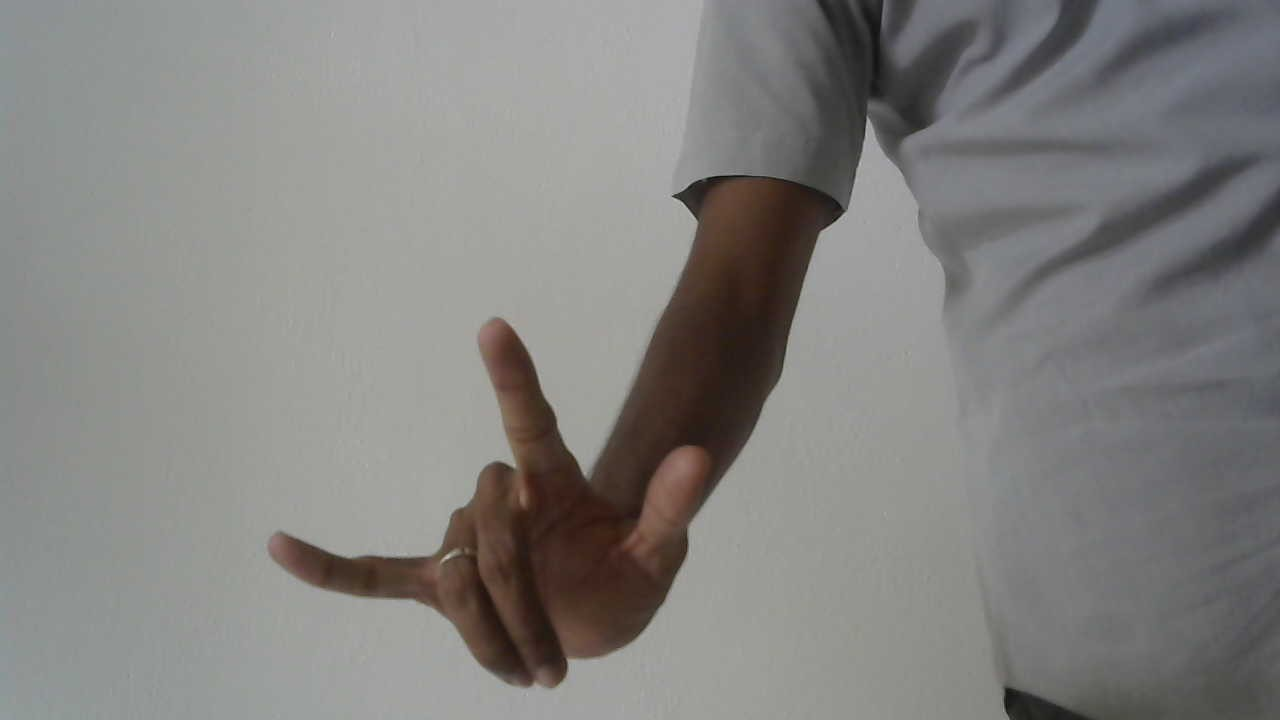iloveyou: (254, 311, 720, 702)
